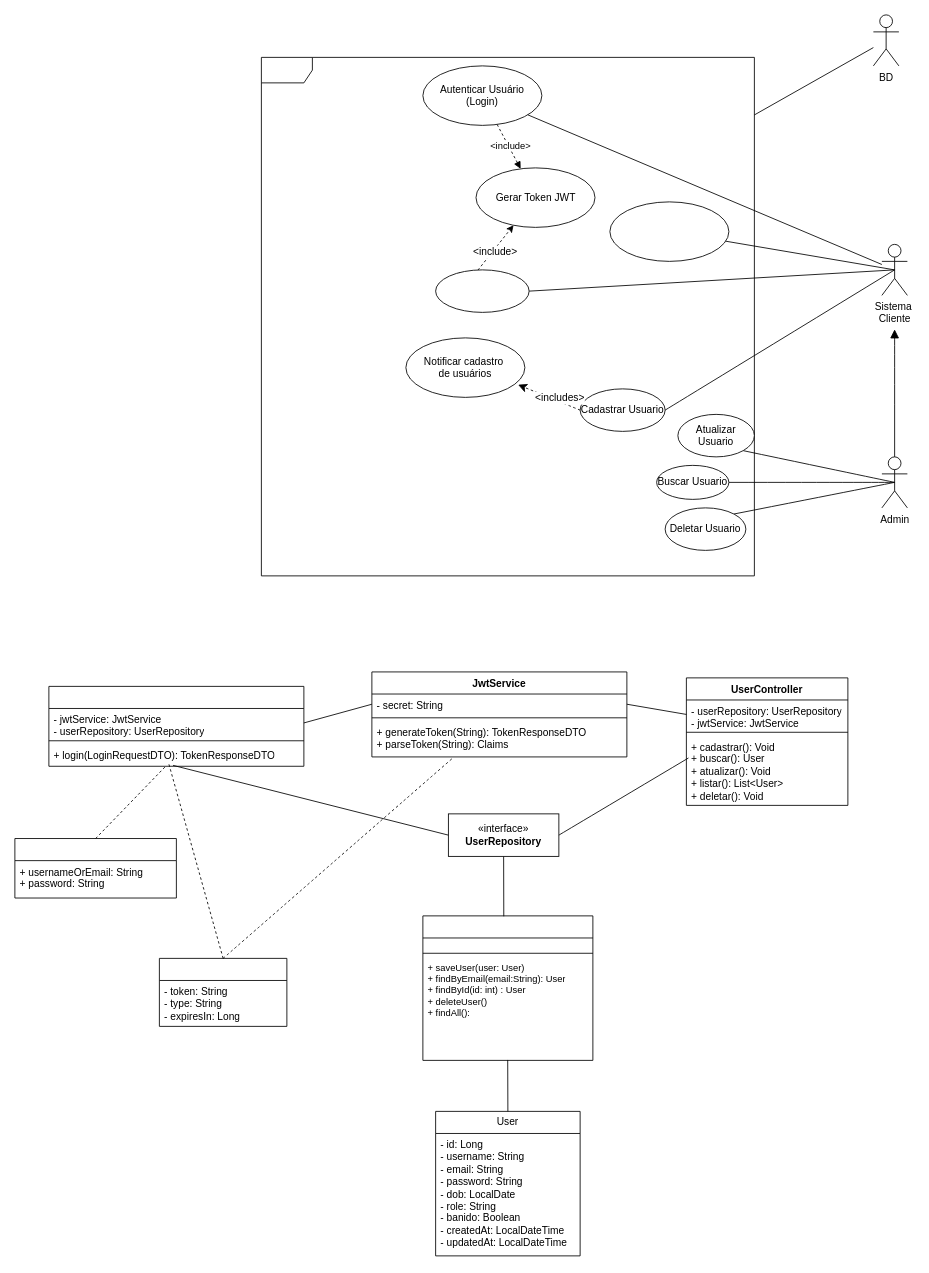
The diagram is 929 pixels wide and 1273 high, and some of its shapes have lost their labels. The shapes that lost their labels are listed below. From the top down, each one's box as (x1, y1, x2, y2) in pixels, then its label:
(609, 201, 729, 261): Verificar Token
(435, 269, 529, 312): Gerar Refresh Token
(261, 57, 754, 576): Autenticação
(48, 686, 304, 766): AuthController
(14, 838, 176, 898): LoginRequestDTO
(159, 958, 287, 1026): TokenResponseDTO
(422, 915, 593, 1060): UserRepository
